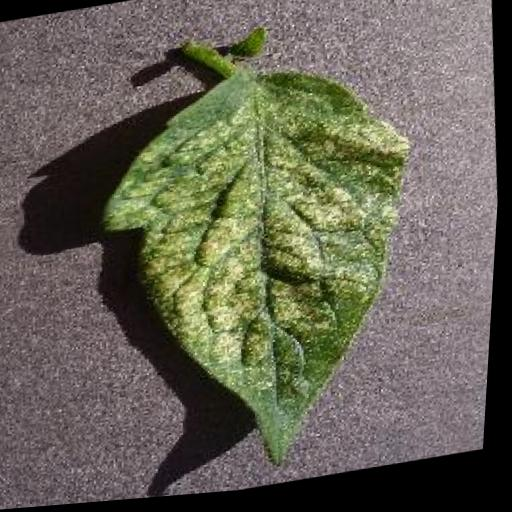Spider Mites: (80, 53, 437, 503)
